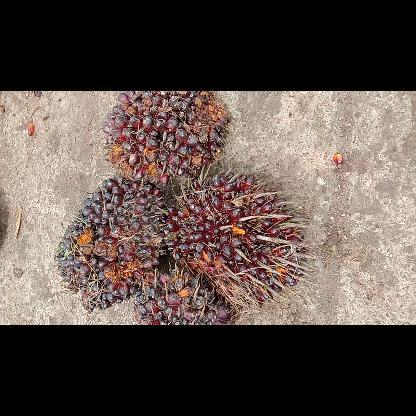Kurang masak: (164, 167, 308, 310), (54, 176, 172, 318), (98, 90, 230, 188), (133, 264, 239, 324)
